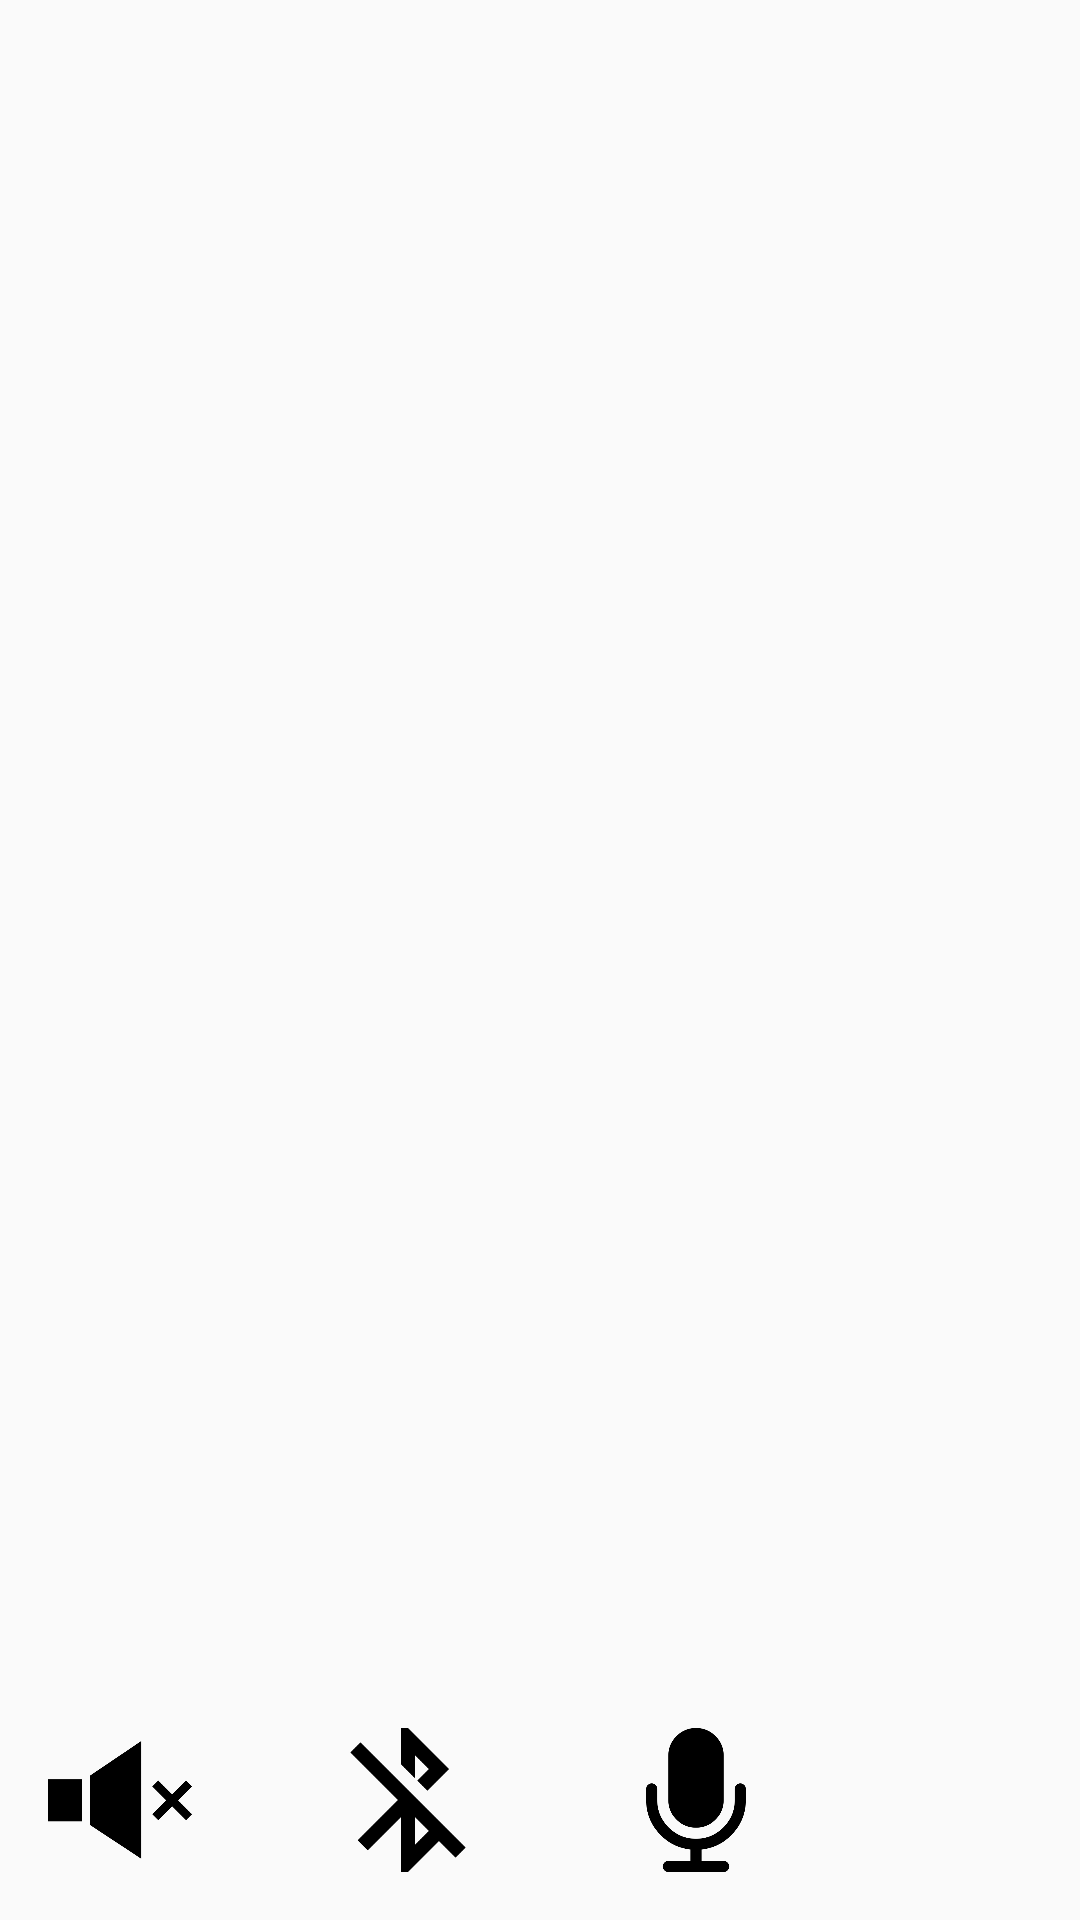

Icons on this 1080x1920 Android screen, each with its box as BBox(x1, y1, x2, y2):
mic on: BBox(646, 1728, 746, 1872)
speaker mute: BBox(48, 1741, 192, 1859)
